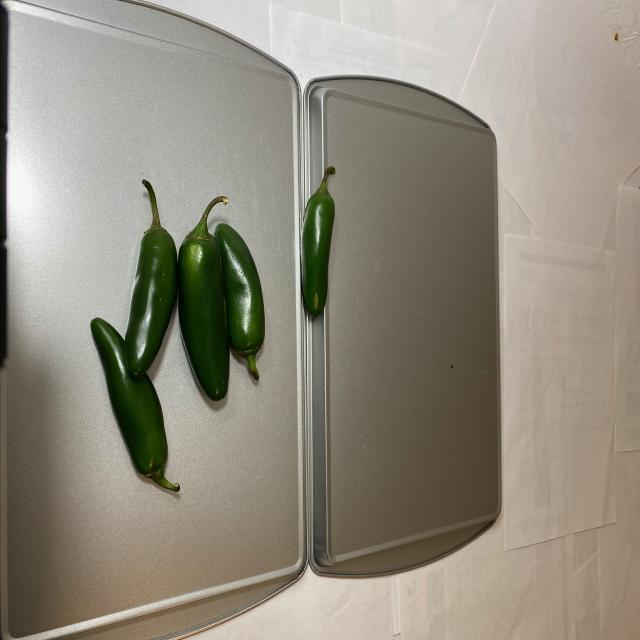chilli: (95, 154, 340, 504)
